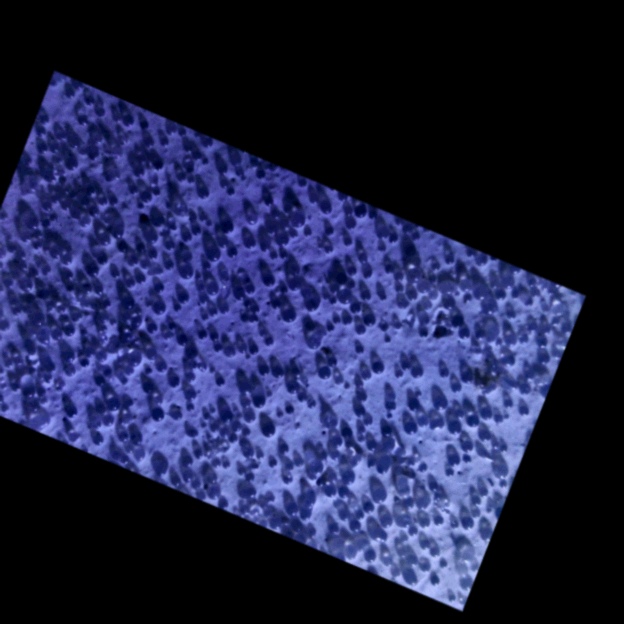GrassBeadSeg: (50, 142, 477, 572), (39, 115, 417, 586), (0, 213, 453, 601), (38, 114, 441, 492), (99, 115, 473, 512), (36, 127, 365, 521), (131, 170, 440, 585), (133, 166, 430, 529), (39, 333, 517, 533), (217, 238, 492, 565), (135, 243, 451, 518), (12, 314, 358, 559), (47, 179, 422, 398), (78, 215, 445, 423), (49, 239, 465, 417), (68, 190, 350, 443), (166, 203, 462, 429), (146, 367, 468, 573), (0, 127, 288, 344), (85, 263, 422, 438), (22, 155, 318, 350), (56, 130, 295, 369), (89, 267, 336, 497), (121, 296, 352, 521), (48, 174, 272, 398), (172, 278, 377, 513), (82, 358, 389, 514), (97, 440, 475, 564), (124, 367, 387, 542), (45, 265, 518, 361), (74, 89, 206, 429), (64, 366, 386, 504), (123, 346, 435, 484), (41, 115, 305, 275), (106, 315, 353, 485), (197, 192, 422, 373), (130, 185, 277, 445), (256, 369, 492, 530), (21, 159, 146, 462), (98, 293, 517, 383), (0, 320, 384, 417), (95, 376, 455, 478), (183, 389, 460, 521), (67, 377, 350, 499), (100, 278, 300, 443), (221, 348, 393, 529), (92, 362, 464, 445), (207, 306, 388, 476), (128, 185, 220, 469), (243, 296, 457, 418), (65, 299, 281, 417), (150, 273, 320, 422), (179, 332, 366, 467), (58, 136, 155, 395), (102, 276, 347, 378), (95, 291, 371, 379), (71, 286, 366, 366), (327, 302, 460, 467), (224, 325, 357, 485), (79, 358, 448, 411), (61, 243, 400, 300), (10, 304, 229, 392), (257, 365, 362, 533), (101, 369, 404, 427), (19, 232, 212, 323), (136, 310, 411, 370), (154, 291, 362, 368), (103, 338, 277, 426), (61, 353, 284, 419), (335, 272, 388, 537), (127, 352, 221, 500), (82, 326, 250, 408), (63, 225, 154, 376), (32, 74, 146, 194), (280, 308, 339, 535), (89, 347, 247, 428), (124, 225, 300, 296), (37, 81, 84, 344), (29, 302, 204, 372), (307, 417, 401, 539), (25, 89, 123, 201), (308, 365, 368, 537), (185, 430, 298, 519), (302, 298, 423, 380), (155, 309, 297, 373), (30, 314, 259, 352), (398, 415, 480, 516), (210, 407, 338, 470), (430, 279, 572, 335), (213, 264, 301, 354), (269, 520, 405, 578), (26, 129, 95, 229), (260, 437, 344, 518), (396, 299, 475, 385), (204, 368, 275, 460), (383, 518, 473, 590), (84, 347, 299, 377), (399, 486, 455, 600), (37, 97, 95, 204), (109, 167, 212, 227), (172, 348, 217, 484), (5, 272, 68, 368), (138, 151, 244, 204), (400, 499, 470, 579), (156, 407, 238, 473), (144, 136, 234, 195), (142, 192, 210, 266), (177, 128, 269, 180), (0, 249, 59, 330), (283, 204, 337, 292), (483, 326, 550, 395), (184, 344, 223, 462), (380, 256, 486, 299), (146, 344, 249, 388), (284, 399, 338, 481), (332, 391, 396, 460), (197, 407, 242, 505), (449, 422, 507, 497), (191, 435, 255, 499), (137, 158, 208, 215), (206, 188, 269, 250), (252, 394, 338, 438), (242, 475, 317, 525), (358, 417, 430, 469), (448, 421, 508, 479), (339, 317, 407, 368), (502, 309, 550, 381), (190, 366, 241, 432), (281, 201, 353, 246), (411, 235, 478, 282), (19, 280, 75, 336), (263, 178, 318, 234), (302, 509, 419, 535), (100, 233, 191, 266), (348, 232, 421, 273), (319, 206, 378, 253), (384, 291, 437, 343), (66, 97, 149, 129), (266, 217, 357, 246), (34, 314, 204, 329), (361, 205, 412, 253), (484, 362, 529, 416), (100, 334, 133, 407), (349, 244, 416, 279), (247, 209, 334, 235), (268, 437, 341, 467), (394, 272, 472, 300), (219, 428, 263, 475), (172, 473, 228, 509), (365, 413, 417, 451), (392, 535, 440, 573), (464, 279, 514, 315), (185, 365, 224, 411), (280, 444, 323, 485), (357, 407, 395, 453), (119, 376, 139, 461), (479, 407, 524, 443), (231, 155, 269, 195), (473, 422, 507, 466), (158, 299, 174, 387), (15, 360, 52, 397), (36, 174, 58, 233), (144, 266, 201, 288), (508, 292, 531, 344), (223, 428, 252, 469), (341, 384, 362, 439), (147, 233, 183, 265), (269, 205, 291, 255), (171, 450, 202, 485), (475, 332, 520, 355), (51, 157, 70, 211), (74, 287, 103, 321), (20, 184, 53, 213), (419, 314, 463, 334), (148, 123, 183, 147), (0, 387, 48, 404), (317, 451, 340, 486), (8, 243, 32, 276), (153, 215, 191, 235), (102, 299, 131, 323), (21, 247, 41, 280), (154, 378, 179, 404), (122, 300, 157, 318), (190, 218, 233, 232), (468, 415, 491, 441), (155, 324, 184, 344), (48, 301, 78, 320), (90, 196, 117, 217), (147, 323, 154, 401), (118, 242, 157, 256), (344, 371, 372, 390), (110, 323, 137, 342), (114, 191, 148, 206), (0, 250, 13, 289), (185, 347, 193, 407), (189, 187, 205, 217), (18, 257, 40, 278), (111, 268, 134, 288), (97, 213, 111, 245), (204, 246, 213, 295), (100, 255, 119, 278), (118, 242, 137, 265), (198, 276, 229, 290), (137, 274, 162, 291), (260, 243, 288, 258), (470, 278, 489, 300), (179, 332, 206, 346), (168, 231, 188, 249), (149, 251, 174, 265), (0, 289, 4, 375), (141, 259, 163, 274), (65, 272, 82, 291), (393, 558, 410, 577), (120, 324, 136, 344), (2, 257, 26, 270), (460, 328, 485, 340), (0, 382, 10, 412), (105, 255, 134, 265), (148, 216, 164, 234), (235, 237, 251, 255), (399, 551, 418, 566), (198, 280, 218, 294), (410, 534, 430, 548), (165, 238, 173, 269), (100, 299, 111, 319), (201, 247, 210, 271), (50, 163, 66, 176), (41, 402, 50, 425), (37, 403, 47, 423), (6, 357, 24, 368), (207, 246, 220, 261), (99, 314, 116, 325), (179, 267, 193, 280), (138, 301, 151, 315), (432, 555, 447, 567), (244, 473, 252, 495), (332, 289, 343, 304), (82, 285, 100, 294), (472, 498, 480, 518), (344, 288, 354, 304), (324, 289, 333, 305), (29, 388, 36, 407), (0, 375, 4, 407), (422, 547, 440, 554), (19, 252, 26, 269), (244, 238, 255, 248), (128, 278, 145, 284), (34, 234, 43, 245), (29, 404, 39, 413), (154, 283, 163, 293), (270, 250, 280, 259), (54, 330, 62, 340), (227, 246, 234, 257), (181, 233, 190, 241), (64, 325, 72, 333), (222, 222, 229, 231), (155, 396, 162, 404), (147, 328, 156, 334), (198, 192, 207, 198), (58, 385, 65, 392), (164, 334, 172, 340), (302, 517, 313, 521), (22, 288, 32, 292), (29, 279, 34, 287), (332, 316, 337, 324), (164, 240, 167, 248), (299, 510, 301, 519), (52, 331, 54, 338), (382, 538, 385, 542)
